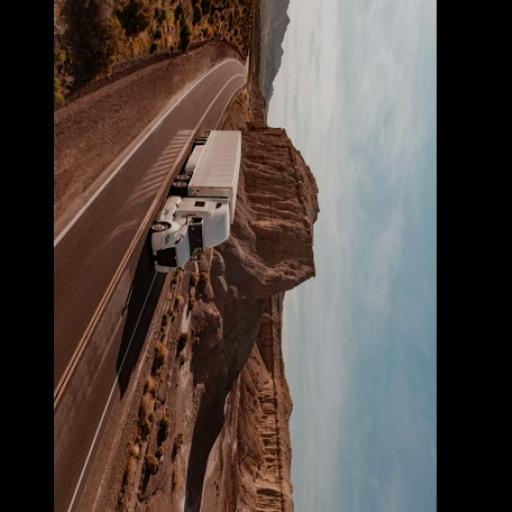truck: (148, 131, 243, 275)
